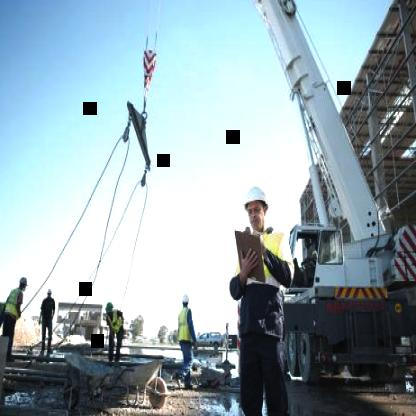helmet: (242, 184, 270, 236), (18, 273, 28, 292), (181, 292, 190, 310), (106, 298, 115, 316), (45, 288, 52, 302)
